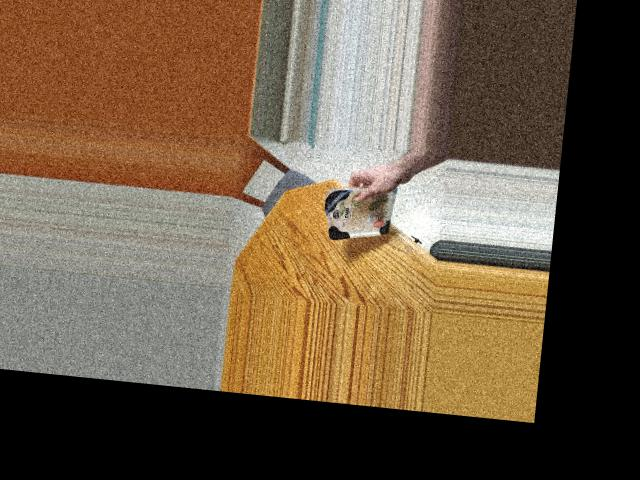cheese: (317, 182, 405, 240)
